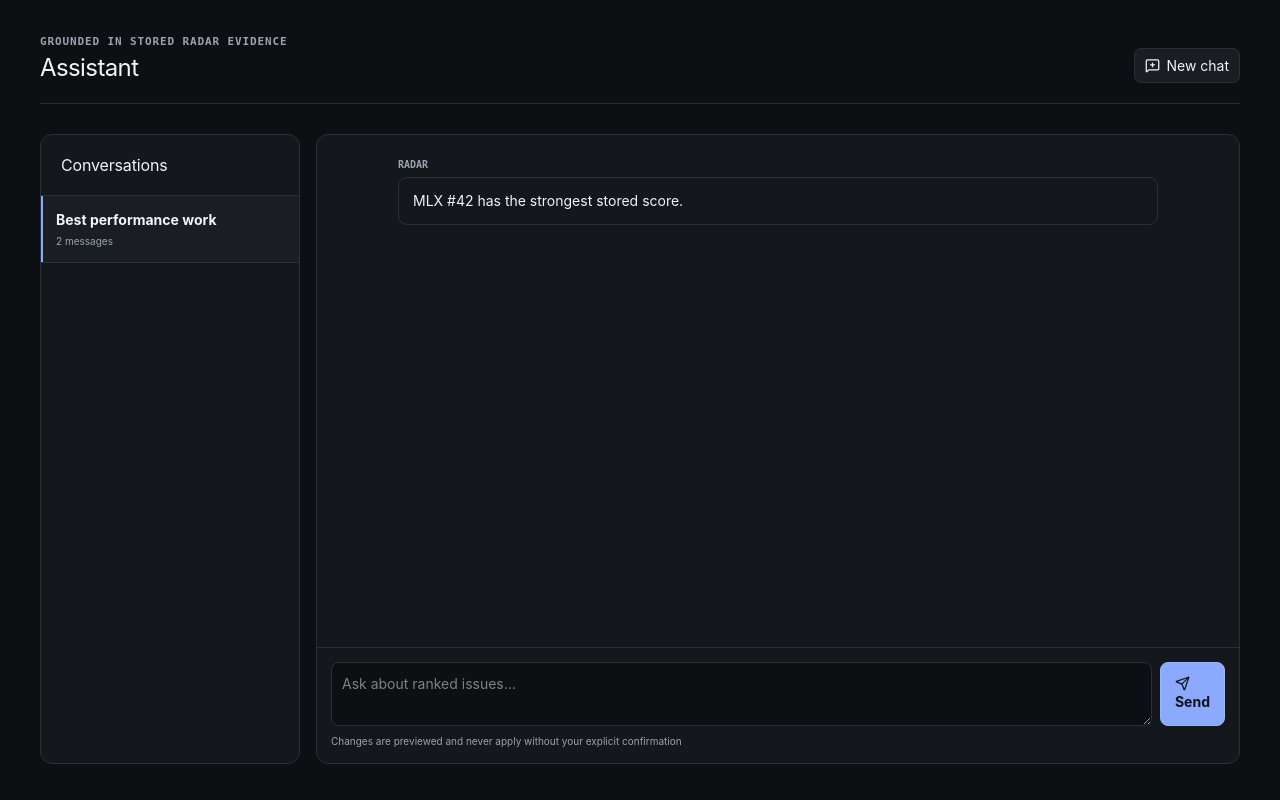
it: loads persisted history and streams a grounded answer
This screenshot has width=1280, height=800.
Check: the text "MLX #42 has the strongest stored score." is shown, box [398,177,1158,225]
In the text box named "Message Radar": [741, 694] box [331,662,1152,726], type "Which issue should I choose?"
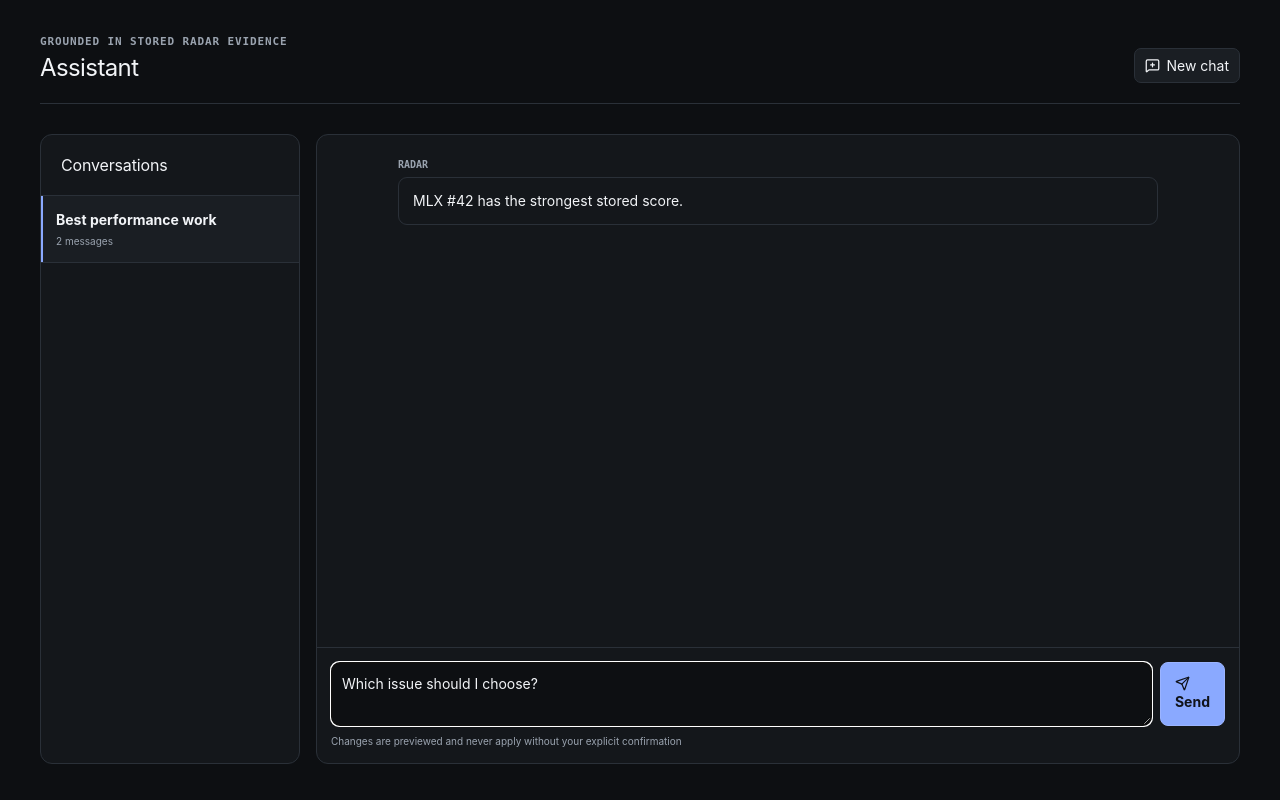
Click the button "Send": [1192, 694] box [1160,662,1225,726]
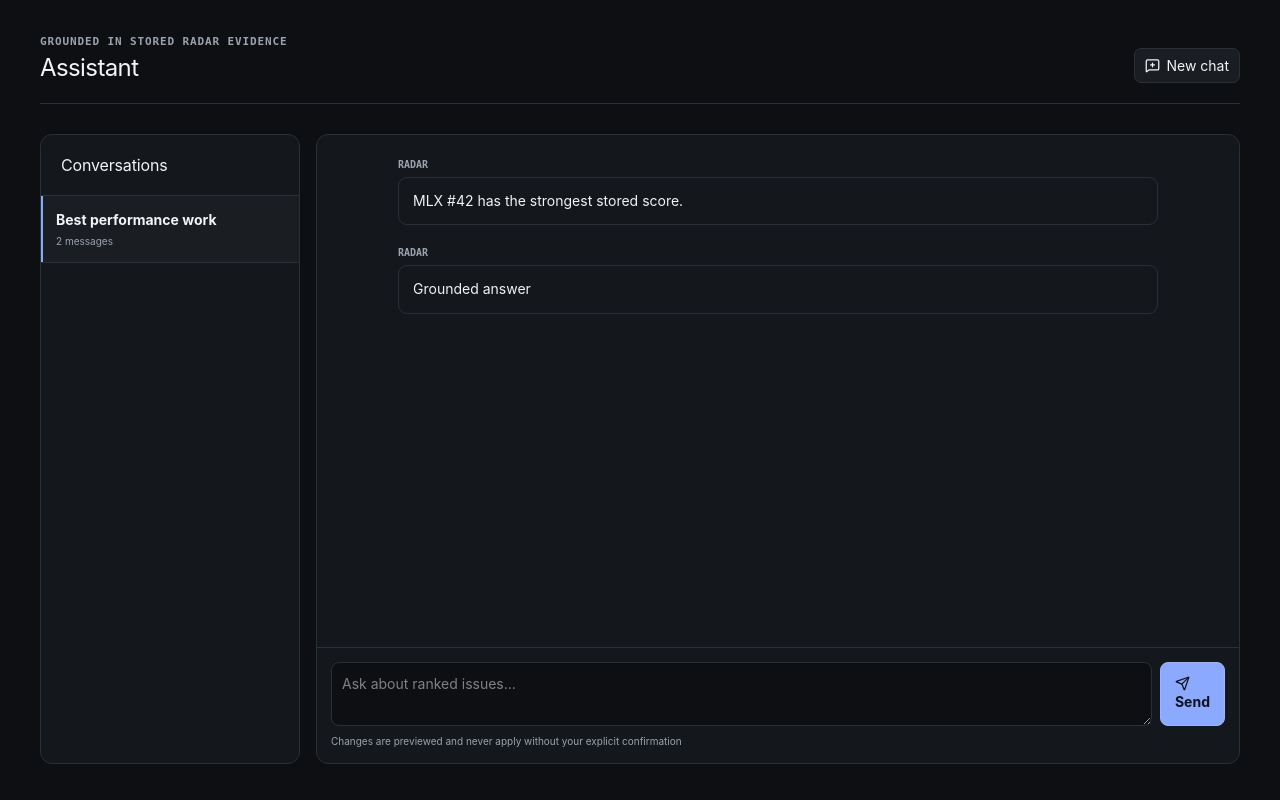
Check: the text "Grounded answer" is shown, box [398,265,1158,314]
